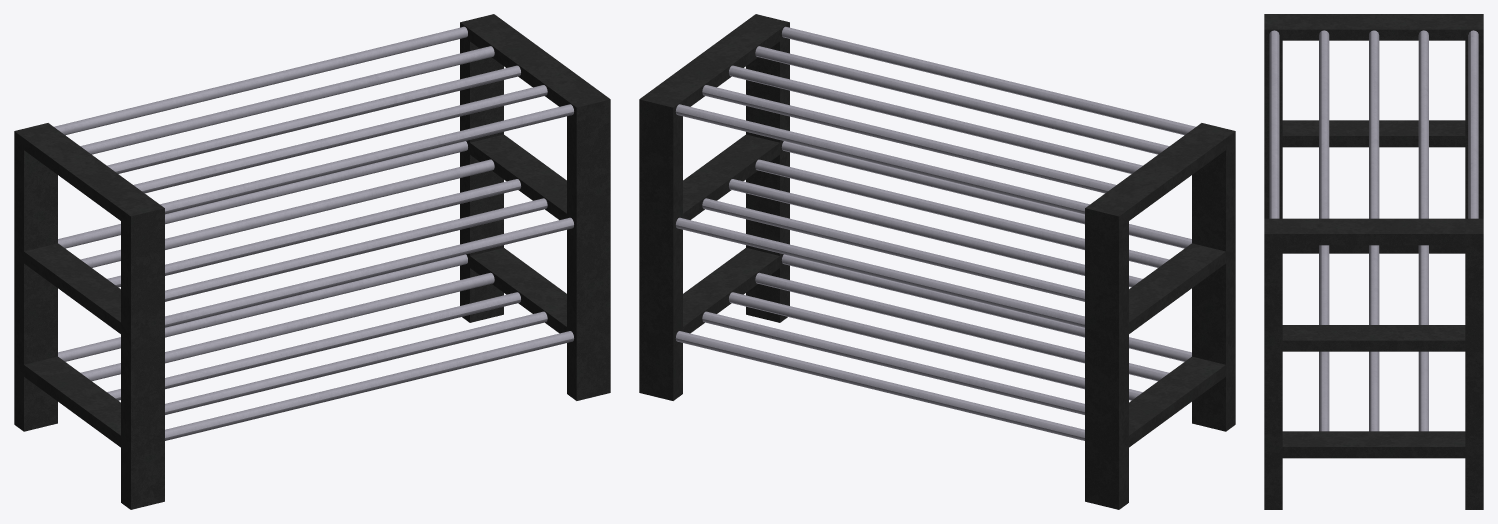
The model's file is metal_shoe_rack_01.glb.
3 renders of one model, left to right at view 1: azimuth 30°, elevation 25°; view 2: azimuth 150°, elevation 25°; view 3: azimuth 270°, elevation 25°, orthographic. The views are drawn at different scales.
Parts seen in each view (by area): view 1: Tubes_1, Frame_0; view 2: Tubes_1, Frame_0; view 3: Frame_0, Tubes_1.
Part boxes in pixels (bbox=[...]): Tubes_1: bbox=[54, 26, 573, 440]; Frame_0: bbox=[14, 14, 610, 509]; Tubes_1: bbox=[675, 26, 1195, 440]; Frame_0: bbox=[639, 14, 1235, 509]; Frame_0: bbox=[1264, 14, 1483, 509]; Tubes_1: bbox=[1269, 30, 1478, 431].
Bounding box in the file's own units: 0.8465 × 0.4946 × 0.3564.
Materials: 2 (2 with a texture image).
